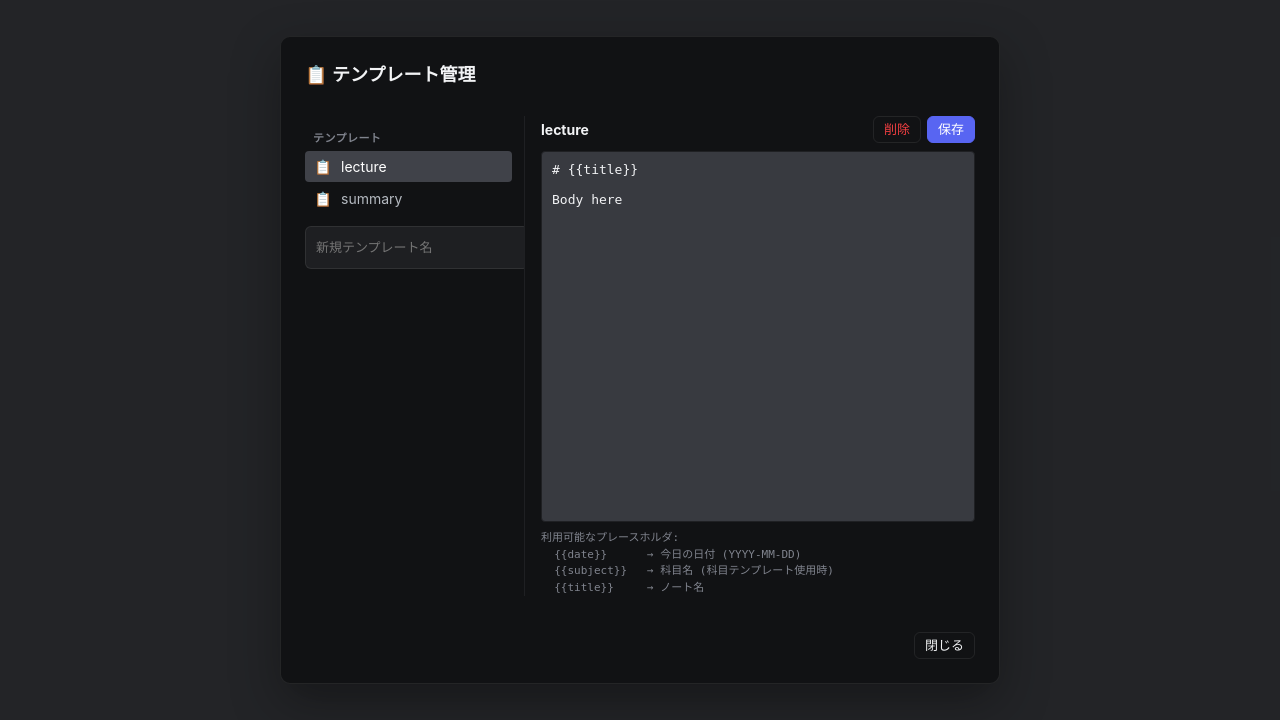
Scenario: TemplateEditor › shows saved hint after save
Step 1. Click the button "保存" → coordinates (951, 129), box top-left (927, 116), bottom-right (975, 143)
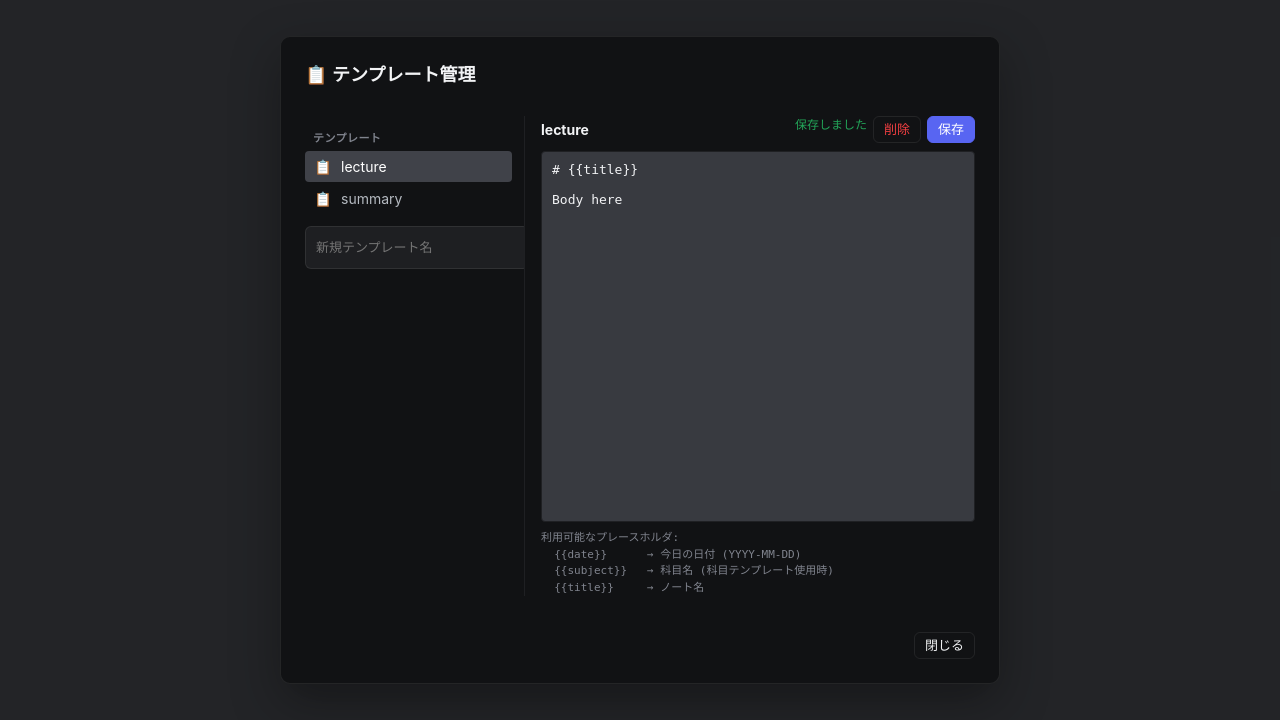
Now the text "保存しました" is shown, box top-left (795, 117), bottom-right (867, 132)
